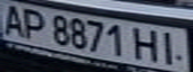1: (103, 21, 130, 57)
7: (84, 19, 106, 53)
8: (45, 12, 72, 47), (66, 16, 87, 51)
A: (0, 1, 30, 37)
H: (130, 25, 163, 63)
I: (154, 29, 187, 65)
P: (18, 7, 48, 39)
